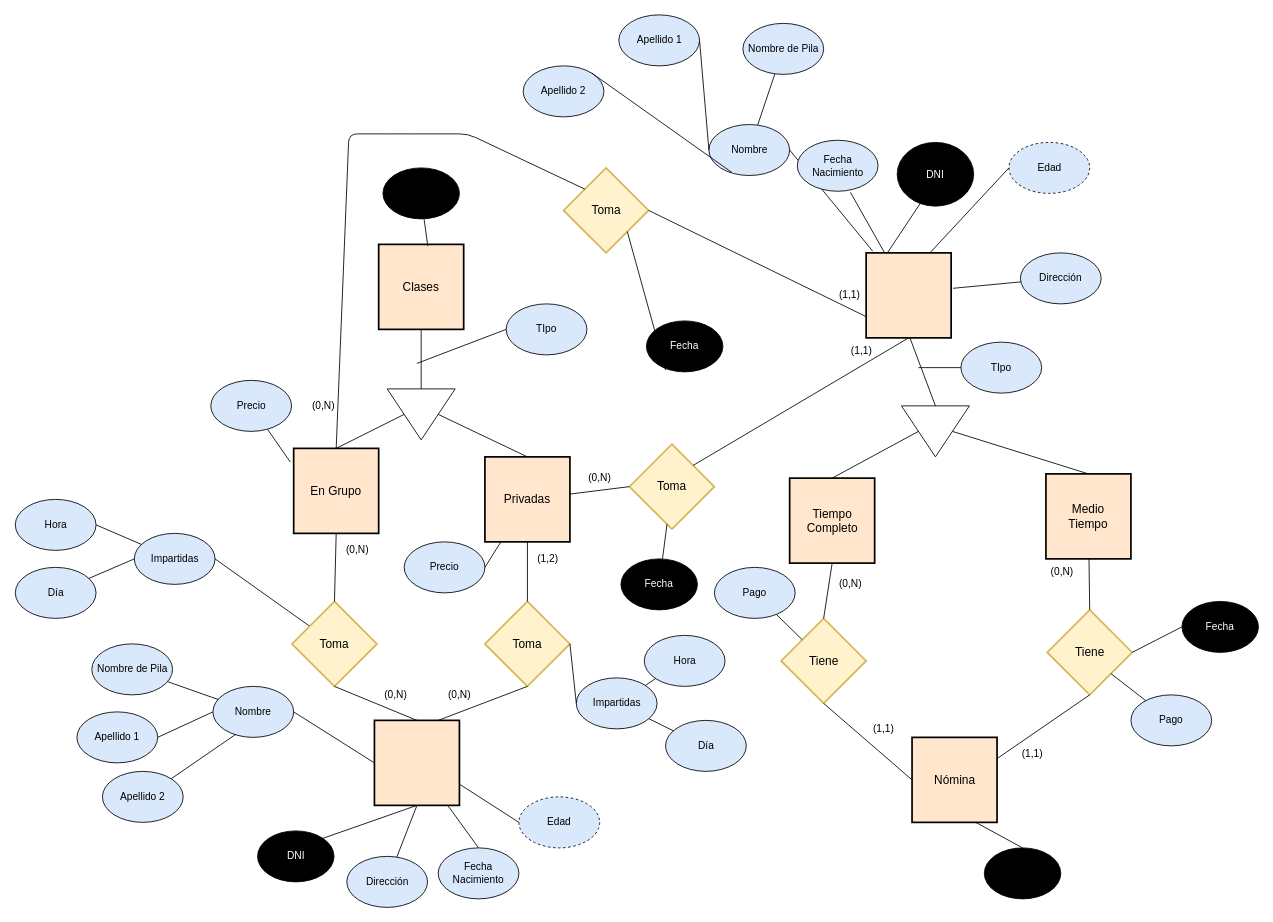
This 1273x922 diagram has some shape labels left out. Each missing label, with the centre of its shape:
"Código Clase" goes at [420,193].
"Código Nómina" goes at [1022,873].
"Estudiante" goes at [416,762].
"Instructor" goes at [908,295].
